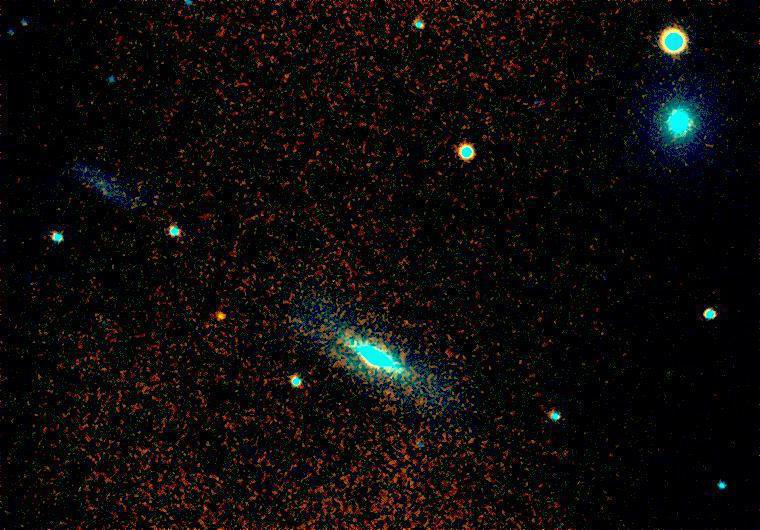star: (208, 299, 238, 329)
